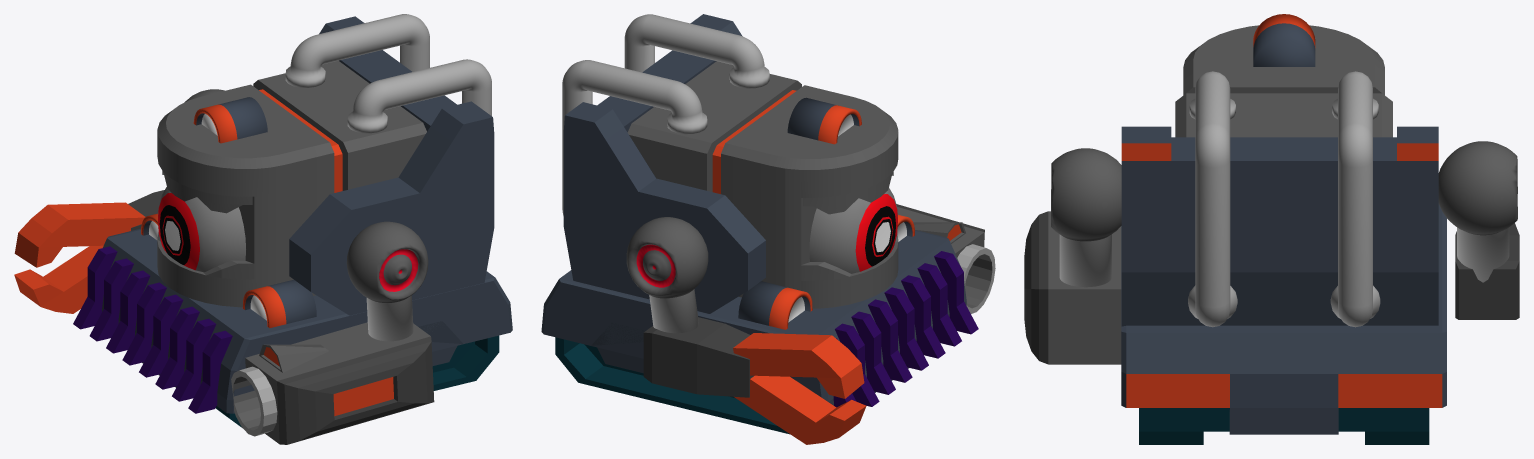
The model's file is NewPlayer.fbx.
3 views of the same model, side by side, from view 1: azimuth 30°, elevation 25°; view 2: azimuth 150°, elevation 25°; view 3: azimuth 270°, elevation 25° (orthographic). The views are drawn at different scales.
Parts seen in each view (by area): view 1: Back, Head, Cube, BodyDown, Часть тарана 3, Cylinder.001, Body, Sphere, Eue, Cube.001, Cube.002, Light (+3 smaller); view 2: Back, Head, BodyDown, Cylinder.001, Часть тарана 3, Body, Sphere.001, Hock, Cube.001, Eue, Track, Cube.002 (+3 smaller); view 3: Back, BodyDown, Cylinder.001, Cube, Sphere.001, Sphere, Head, Body, Track, Hock, Light.001.
Boxes of the visible parts, x1,y1,x2,y2 form: Back: (289,16,494,315); Head: (157,84,334,307); Cube: (231,322,434,444); BodyDown: (102,228,512,413); Часть тарана 3: (73,246,232,413); Cylinder.001: (285,14,491,133); Body: (253,60,426,192); Sphere: (346,221,428,341); Eue: (158,187,245,272); Cube.001: (14,202,145,267); Cube.002: (14,245,103,313); Light: (141,213,316,328); Back: (563,14,765,313); Head: (721,85,898,308); BodyDown: (541,230,966,405); Cylinder.001: (562,14,769,215); Часть тарана 3: (833,251,978,407); Body: (627,61,801,193); Sphere.001: (626,217,708,333); Hock: (643,317,754,397); Cube.001: (733,333,864,398); Eue: (809,188,897,273); Track: (555,337,789,434); Cube.002: (734,375,866,444); Back: (1121,126,1438,326); BodyDown: (1121,204,1446,434); Cylinder.001: (1188,71,1380,327); Cube: (1024,211,1121,364); Sphere.001: (1438,141,1517,282); Sphere: (1051,148,1121,287); Head: (1183,25,1384,95); Body: (1175,93,1392,137); Track: (1139,408,1429,444); Hock: (1455,223,1519,319); Light.001: (1253,14,1315,66).
Size of the model in its own units: 611 by 488 by 654.
